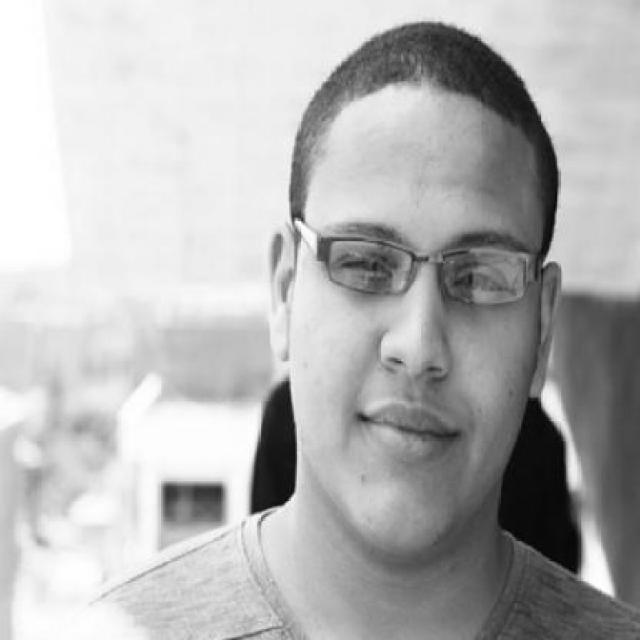Glasses: (278, 192, 550, 310)
